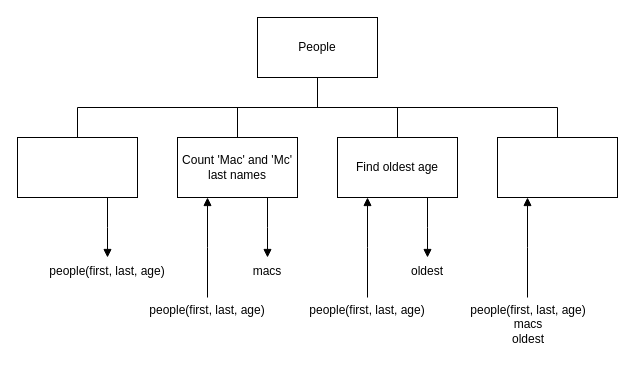
Image size: 635x365. Some labels were removed from this diagram. Each missing label, with the box of its shape:
Get data: (16, 136, 138, 198)
Save results: (496, 136, 618, 198)
